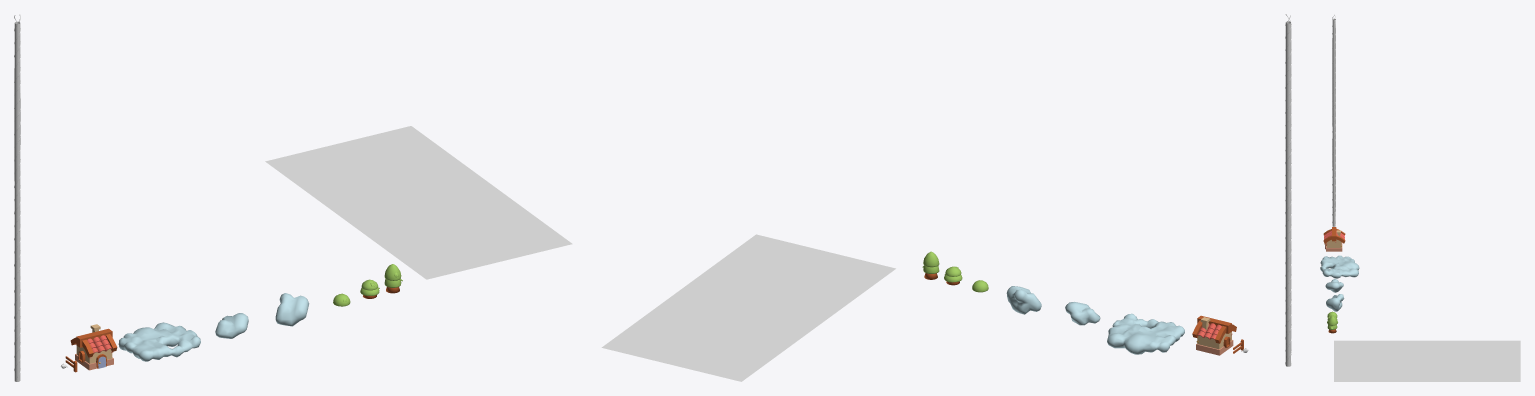
The model's file is Blocagem_MiniGame_Falling.fbx.
The picture shows the model from 3 angles, left to right: view 1: azimuth 30°, elevation 25°; view 2: azimuth 150°, elevation 25°; view 3: azimuth 270°, elevation 25°; orthographic projection. The views are drawn at different scales.
Visible parts, largest first — view 1: Plane.012, NurbsPath.001, Cloud_Platform, Cube.026, Cloud2, Cloud1; view 2: Plane.012, NurbsPath.001, Cloud_Platform, Cube.026, Cloud2, Cloud1; view 3: Plane.012, NurbsPath.001, Cloud_Platform, Cube.026, Cloud2.
Part boxes in pixels (<box>): Plane.012: <box>265,126,572,279</box>; NurbsPath.001: <box>14,14,20,381</box>; Cloud_Platform: <box>118,322,200,361</box>; Cube.026: <box>70,324,117,370</box>; Cloud2: <box>275,293,309,326</box>; Cloud1: <box>215,313,248,338</box>; Plane.012: <box>601,234,895,381</box>; NurbsPath.001: <box>1285,14,1291,366</box>; Cloud_Platform: <box>1107,313,1184,354</box>; Cube.026: <box>1192,315,1236,355</box>; Cloud2: <box>1006,286,1041,314</box>; Cloud1: <box>1065,302,1100,325</box>; Plane.012: <box>1334,340,1520,381</box>; NurbsPath.001: <box>1332,14,1335,226</box>; Cloud_Platform: <box>1320,255,1359,278</box>; Cube.026: <box>1323,227,1345,251</box>; Cloud2: <box>1326,294,1344,311</box>.
Size of the model in its own units: 12742 by 8232 by 6859.
